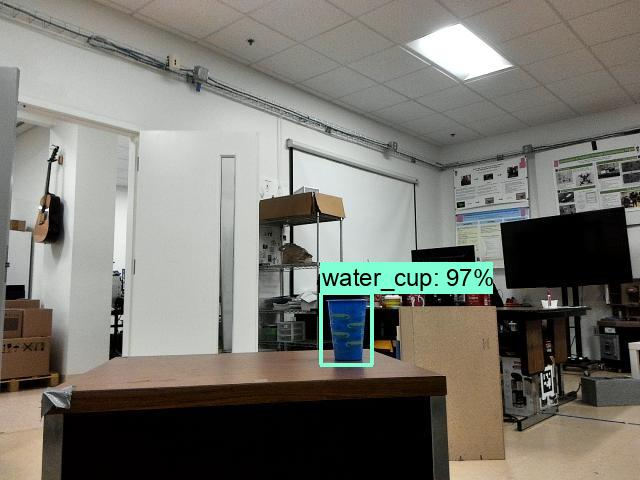water_cup: (321, 296, 370, 364)
